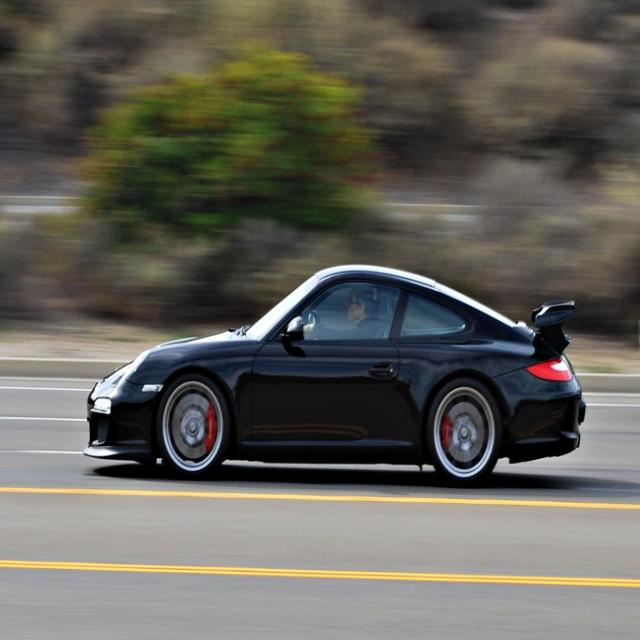car: (82, 261, 585, 490)
